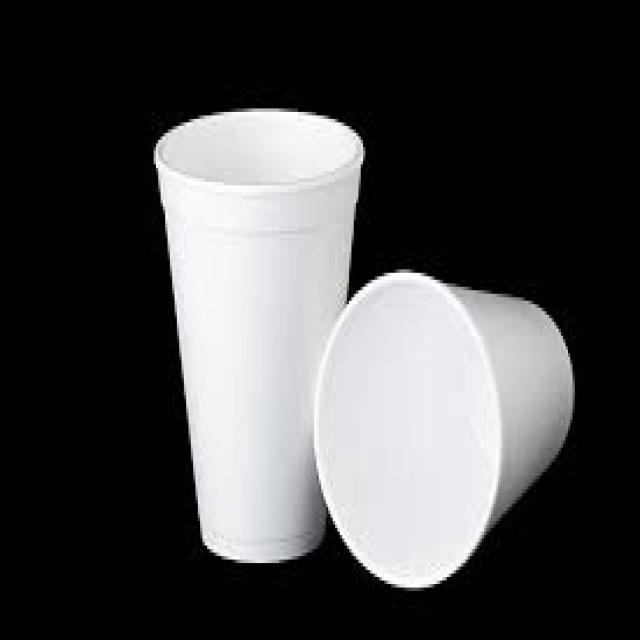styrofoam: (155, 109, 363, 561), (314, 272, 574, 587)
